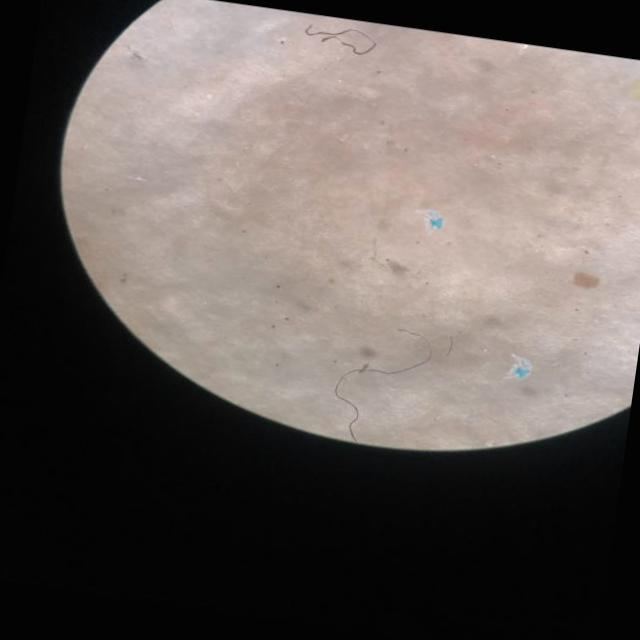fiber: (335, 357, 429, 441), (305, 27, 376, 56)
film: (514, 360, 531, 376), (428, 211, 442, 227)
fragment: (573, 272, 599, 289), (629, 81, 640, 101)
pellet: (206, 94, 212, 99)
